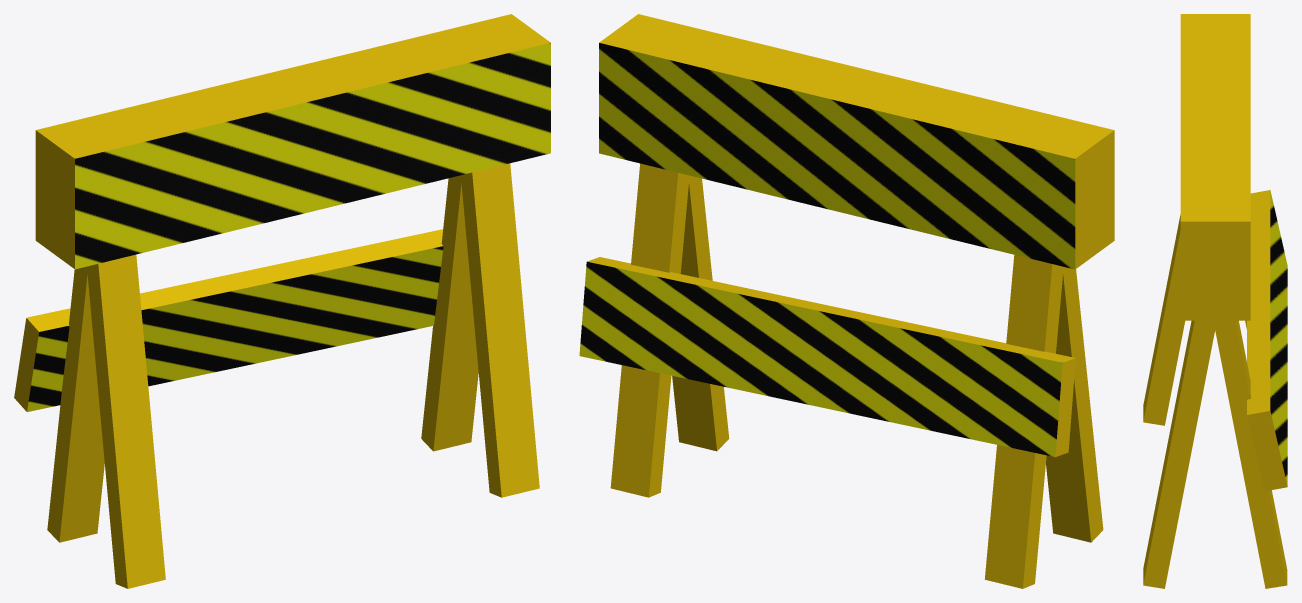
The model's file is Barier.fbx.
3 views of the same model, side by side, from view 1: azimuth 30°, elevation 25°; view 2: azimuth 150°, elevation 25°; view 3: azimuth 270°, elevation 25° (orthographic). The views are drawn at different scales.
Parts seen in each view (by area): view 1: Barier; view 2: Barier; view 3: Barier.
Boxes of the visible parts, <box> form: Barier: <box>14,14,550,588</box>; Barier: <box>579,14,1114,588</box>; Barier: <box>1143,14,1287,588</box>.
Size of the model in its own units: 281 by 240 by 82.39.
